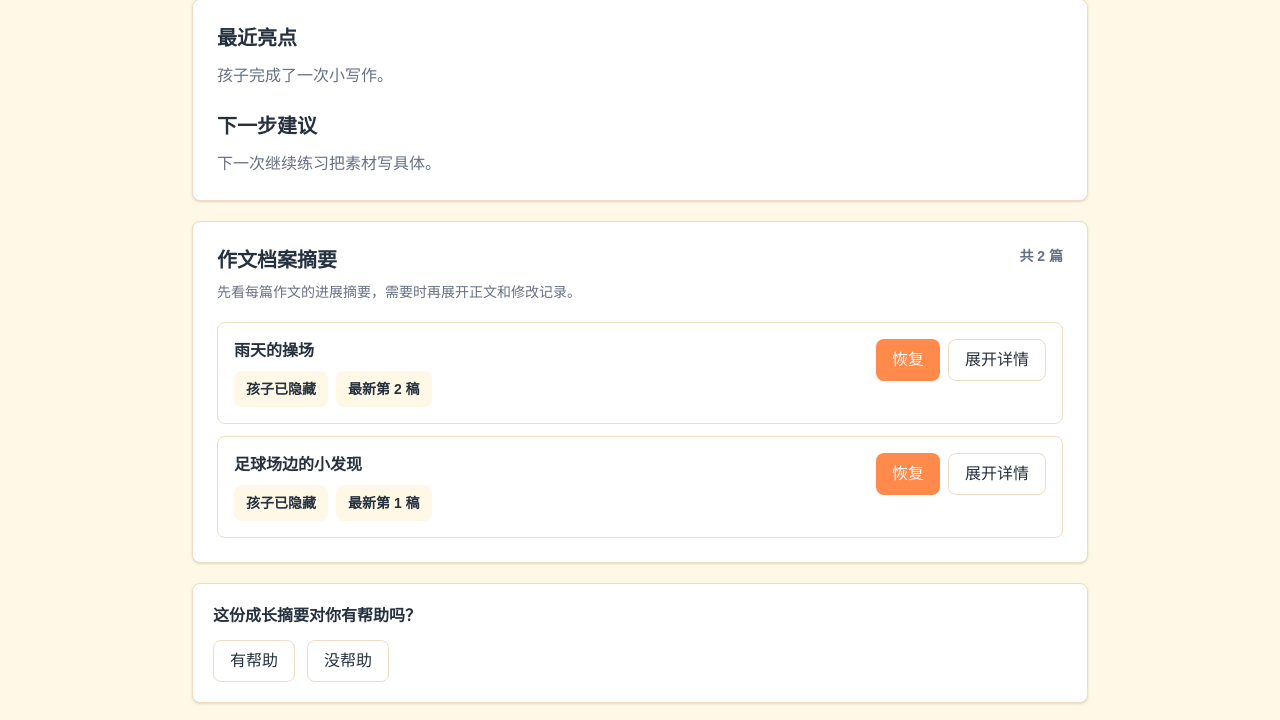
Test case: parent summary ignores stale archive reloads after overlapping restores
(page scrolled)
What coordinates should you click on to do the following:
click the button with aria-label "恢复作文：雨天的操场"
I would click on:
 (908, 360)
Its box is [876,339,940,381].
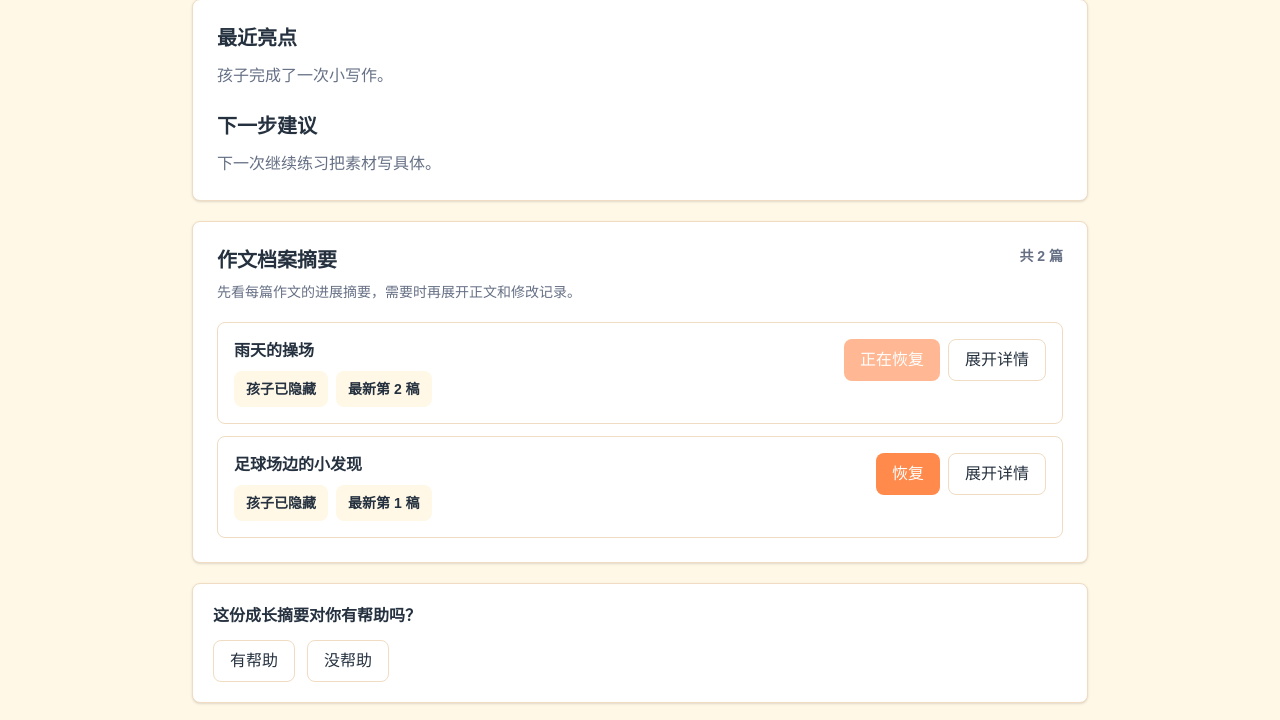
What coordinates should you click on to do the following:
click the button with aria-label "恢复作文：足球场边的小发现"
I would click on:
 (908, 474)
Its box is [876,453,940,495].
(page scrolled)
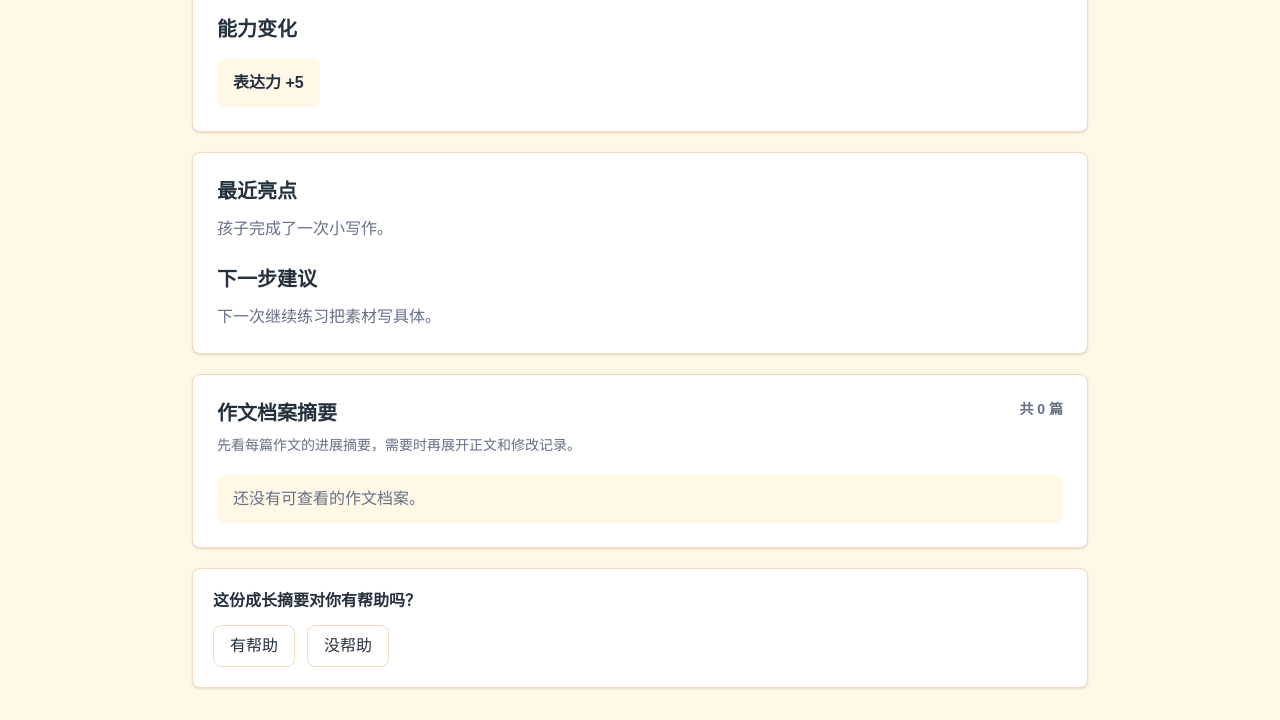
expect the heading "足球场边的小发现" is gone: met
